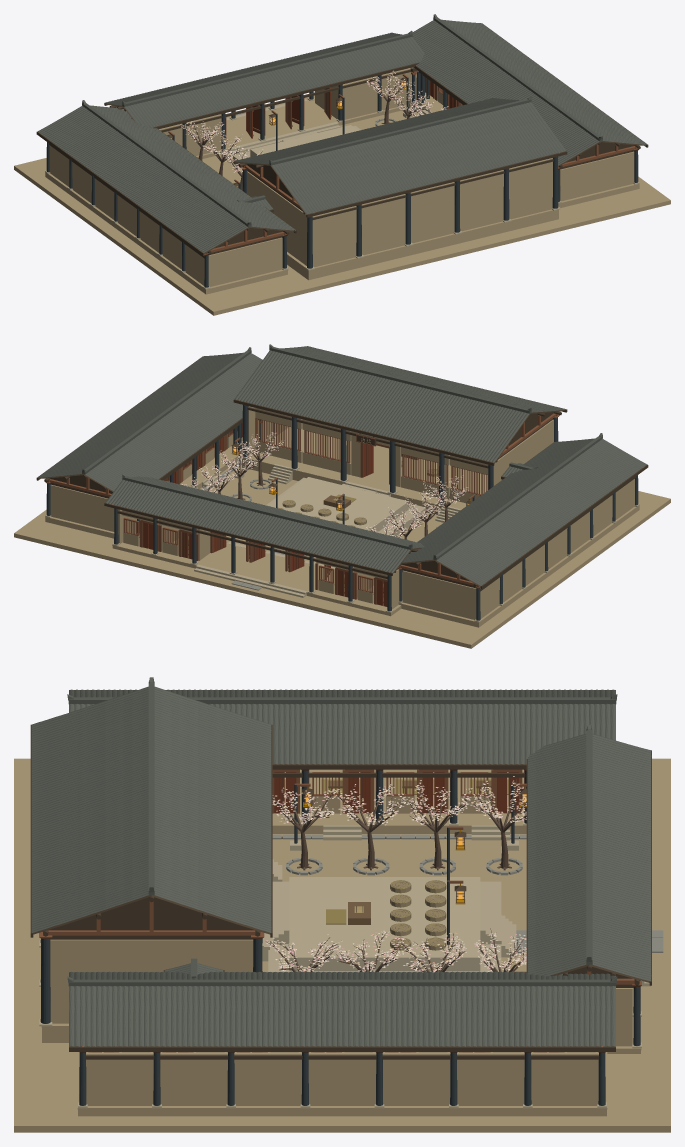
The model's file is academy.glb.
3 views of the same model, one above another, from view 1: azimuth 30°, elevation 25°; view 2: azimuth 150°, elevation 25°; view 3: azimuth 270°, elevation 25° (orthographic). The views are drawn at different scales.
Visible parts, largest first — view 1: academy; view 2: academy; view 3: academy.
Boxes of the visible parts, box(x1,y1,x2,y2) form: academy: box(14, 14, 670, 315); academy: box(14, 344, 670, 648); academy: box(14, 677, 670, 1132).
Size of the model in its own units: 25 by 5.29 by 18.9.
